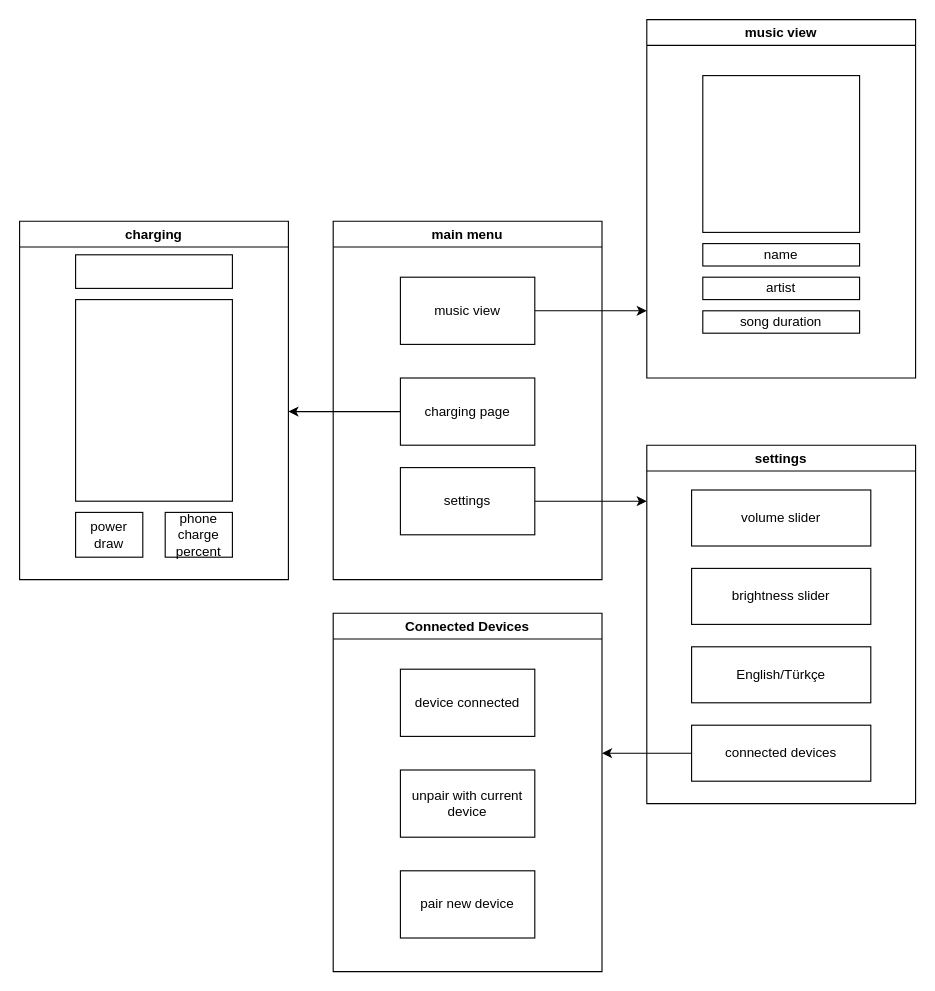
Some shapes in this 935 by 991 pixel diagram are drawn without their labels. Each missing label, with the centre of its shape:
"battery or phone picture with changing color and fill to represent charge amount" belongs at (x=153, y=399).
"device name" belongs at (x=153, y=271).
"song cover" belongs at (x=781, y=153).
